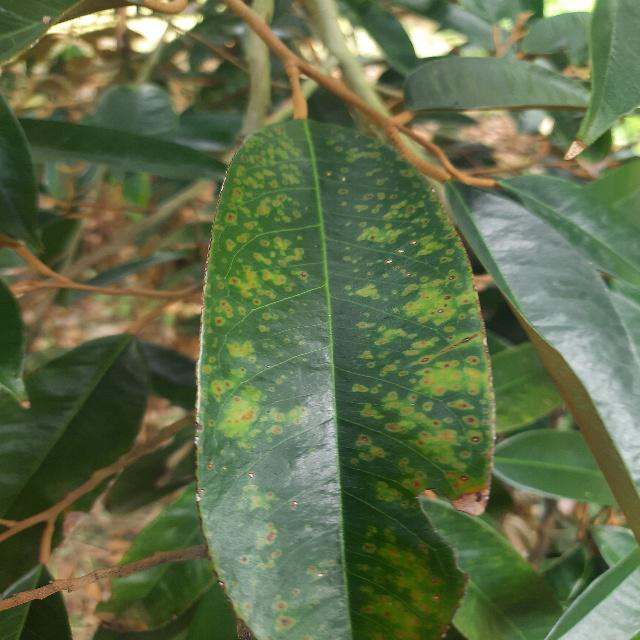Leaf Spot: (183, 99, 510, 639)
